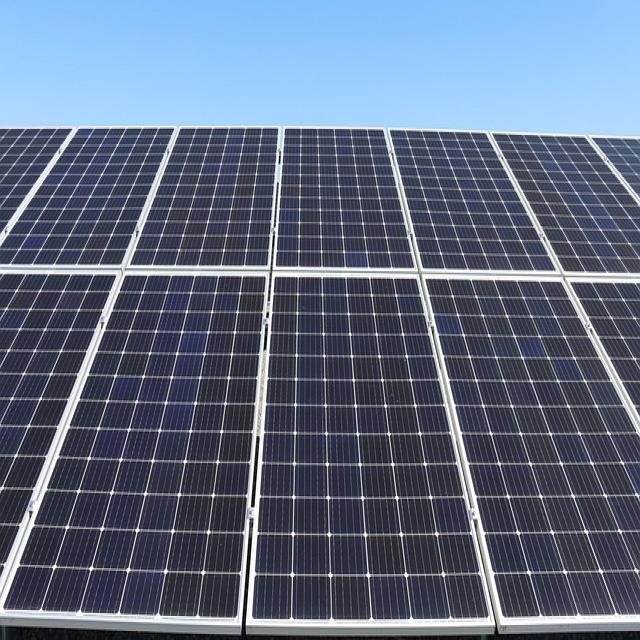clean-solar-panel: (497, 135, 640, 273)
